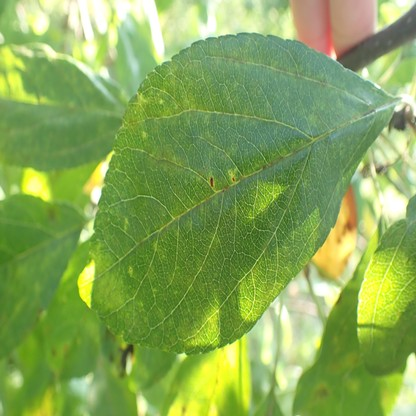scab: (93, 50, 374, 339), (50, 338, 70, 376), (326, 354, 362, 375), (312, 380, 331, 406), (344, 375, 360, 393), (47, 208, 57, 224)
